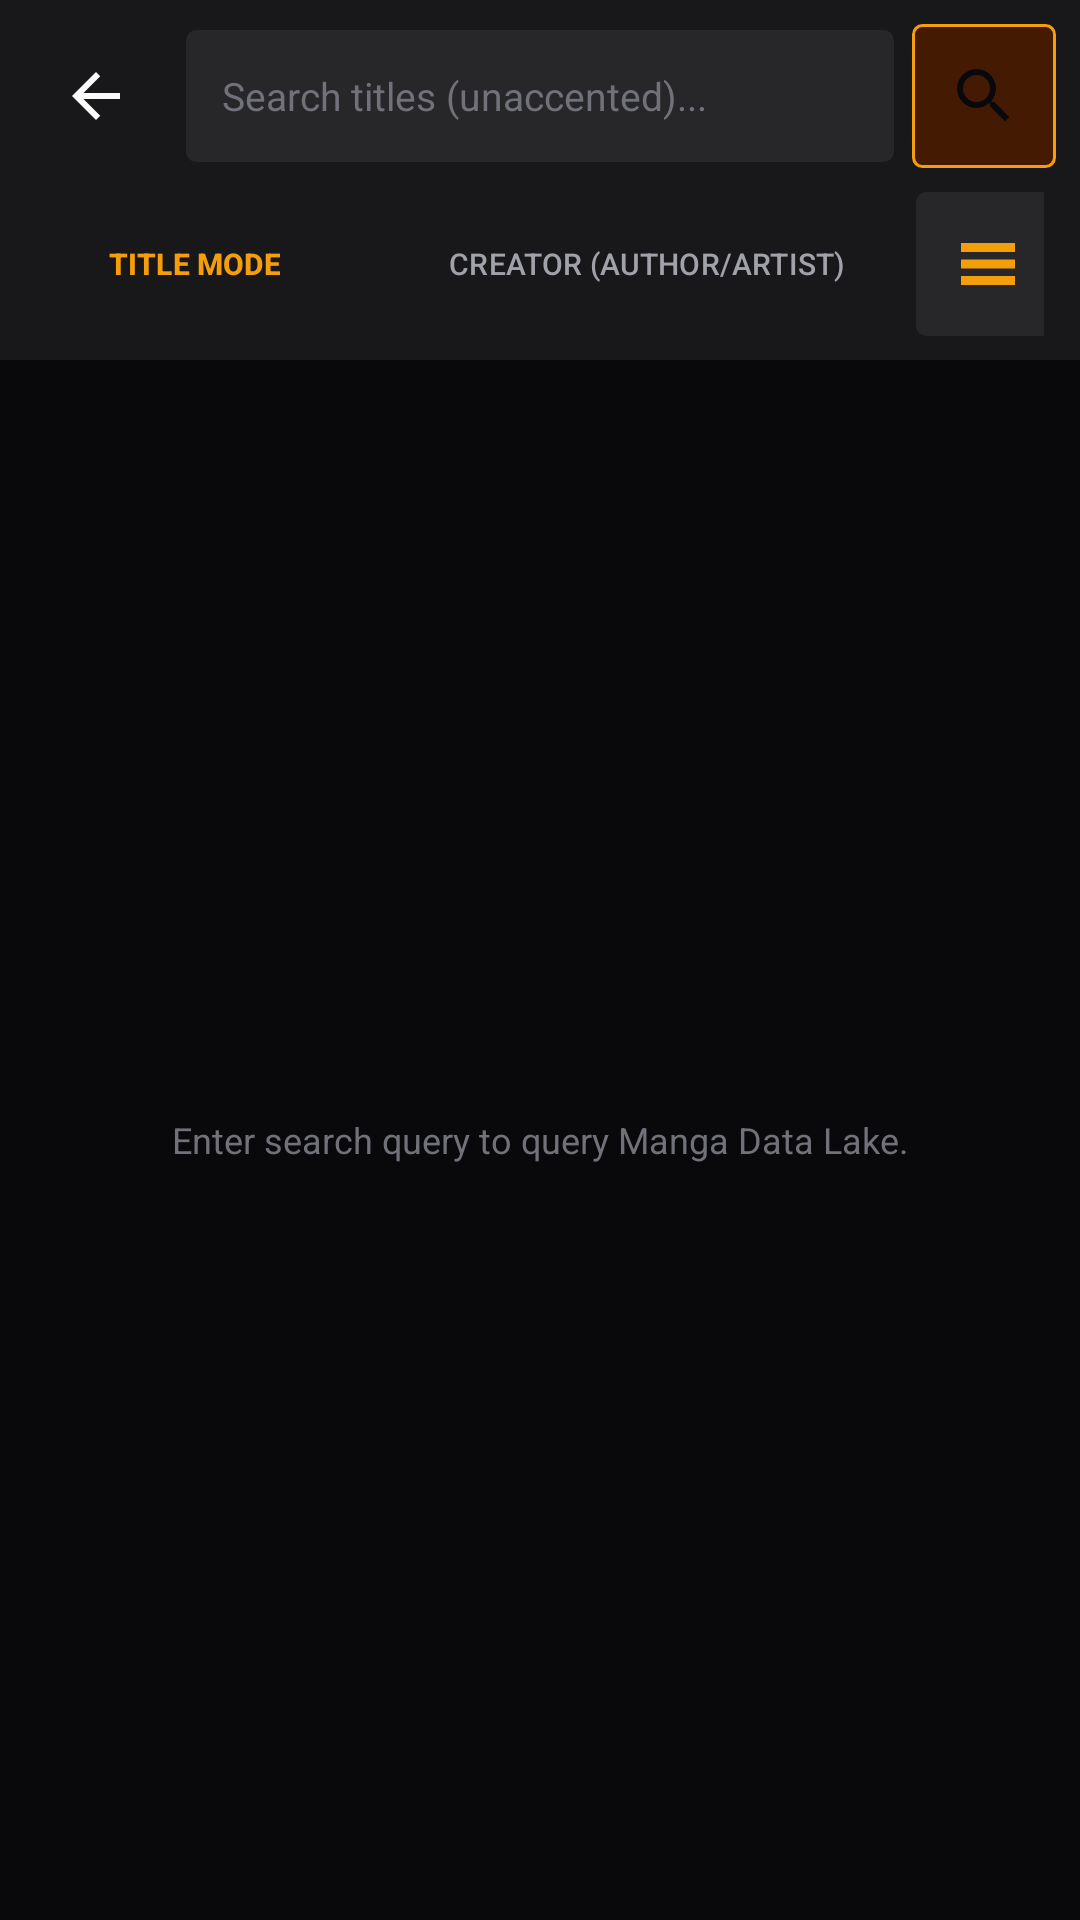

Icons on this 1080 x 1920 Android screen, each with the point to tap as (x=x, y=y):
Back: (x=96, y=96)
Toggle search results grid or list: (x=988, y=264)
